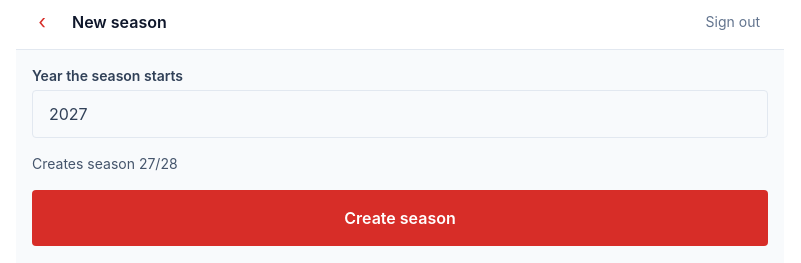
it: NewSeasonPage › refuses a season that already exists
Replace the text in the field labelled "Year the season starts" with "2026" at (400, 114), box left=32, top=90, right=768, bottom=138
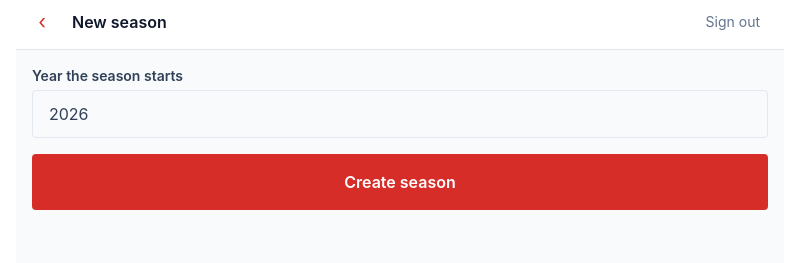
Click the button "Create season" at (400, 182), box left=32, top=154, right=768, bottom=210
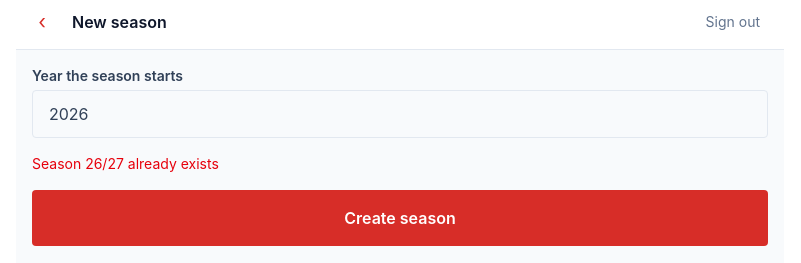
Now the text "Season 26/27 already exists" is shown, box left=32, top=155, right=219, bottom=172
